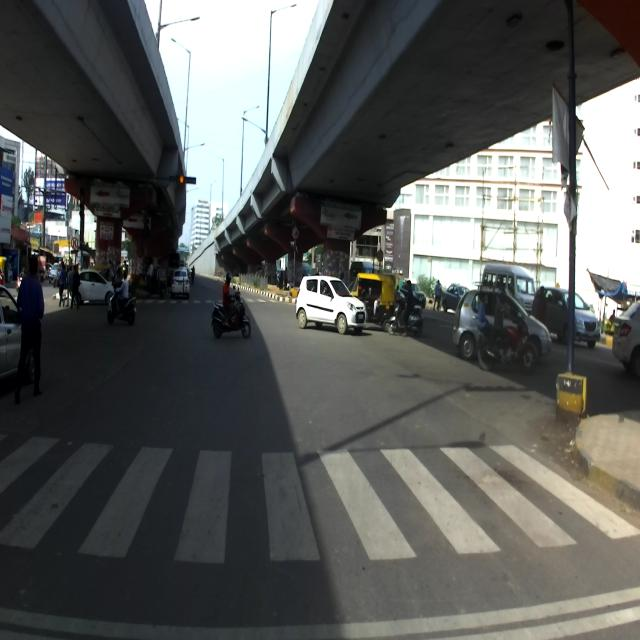car ahead at: (294, 268, 369, 342)
person ahead at: (14, 246, 47, 402)
traffic signal ahead at: (175, 166, 199, 192)
zebra crossing ahead at: (5, 419, 640, 564)
